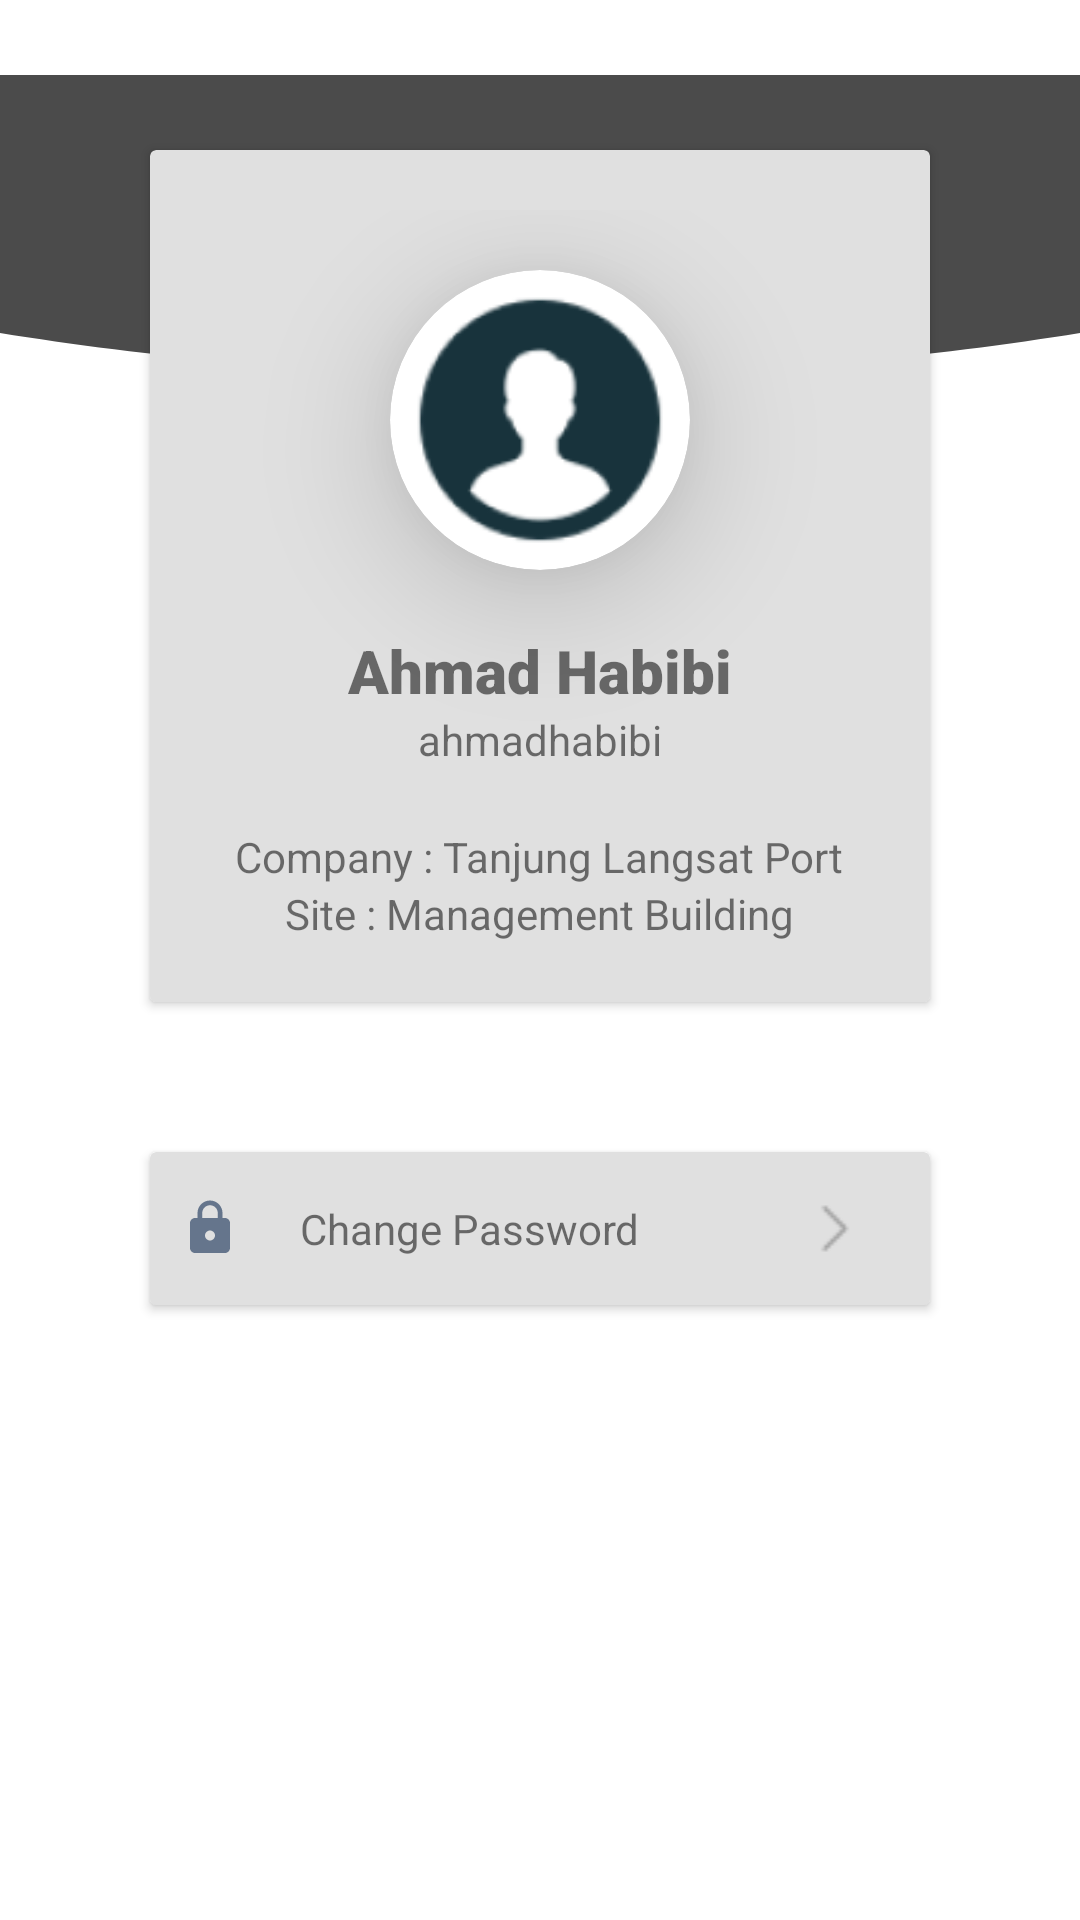

Where icons sit on this 1080w x 1920h app screen, as (x1, y1, x2, y2):
padlock: (190, 1200, 230, 1253)
profile: (390, 270, 690, 570)
